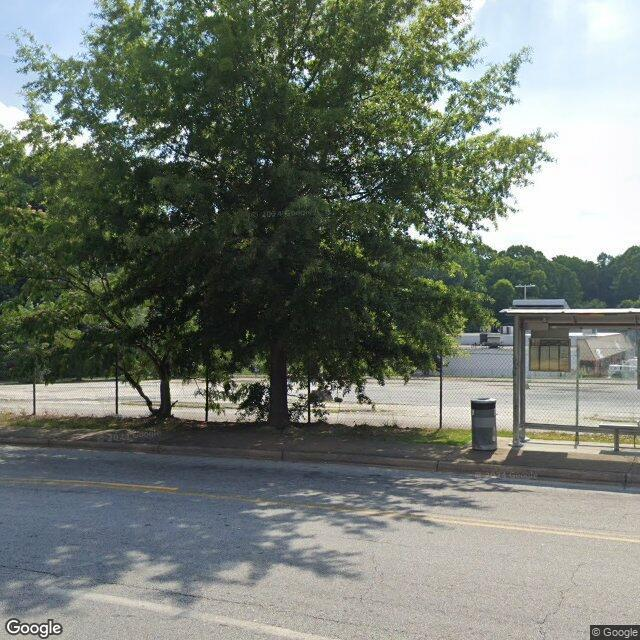seating: (598, 420, 640, 452)
shelter: (501, 302, 640, 455)
trash_can: (470, 398, 498, 452)
